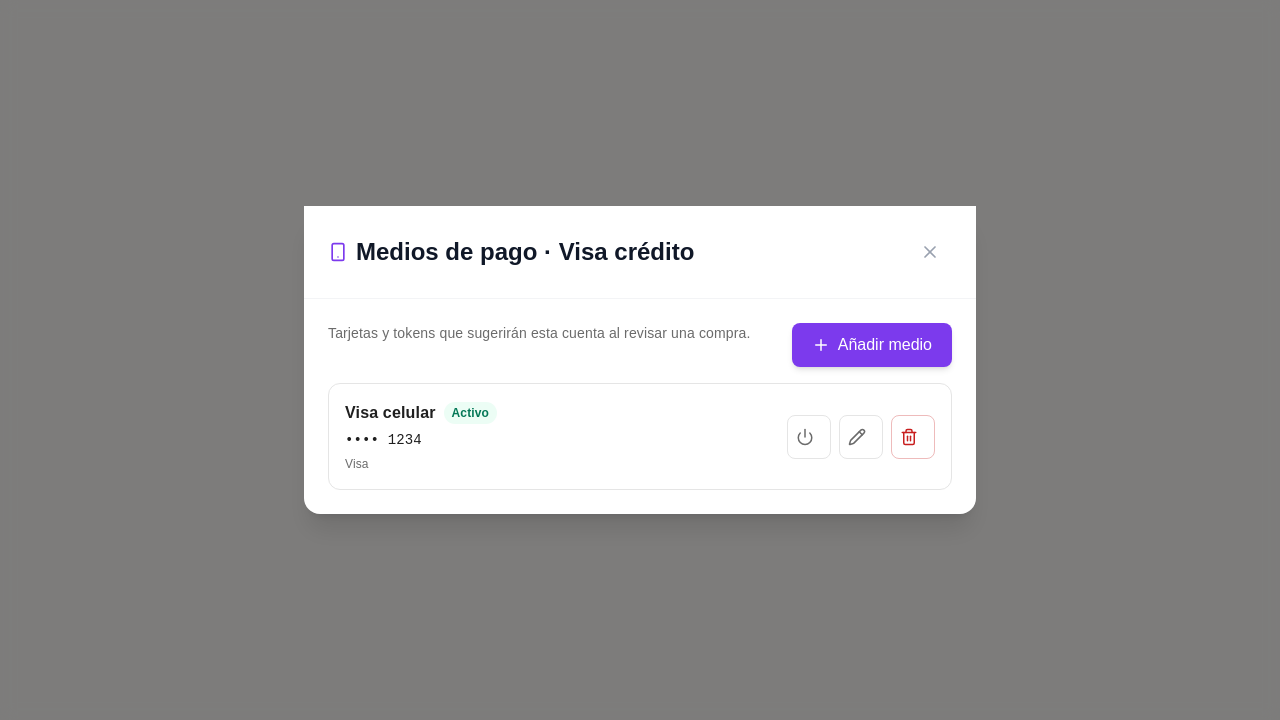
it: PaymentInstrumentsSection › uses one modal for the selected account and for its add form
Expected: the text "Visa celular" is shown, [345, 400, 436, 426]
Click the button "Añadir medio": (872, 345) [792, 323, 952, 367]
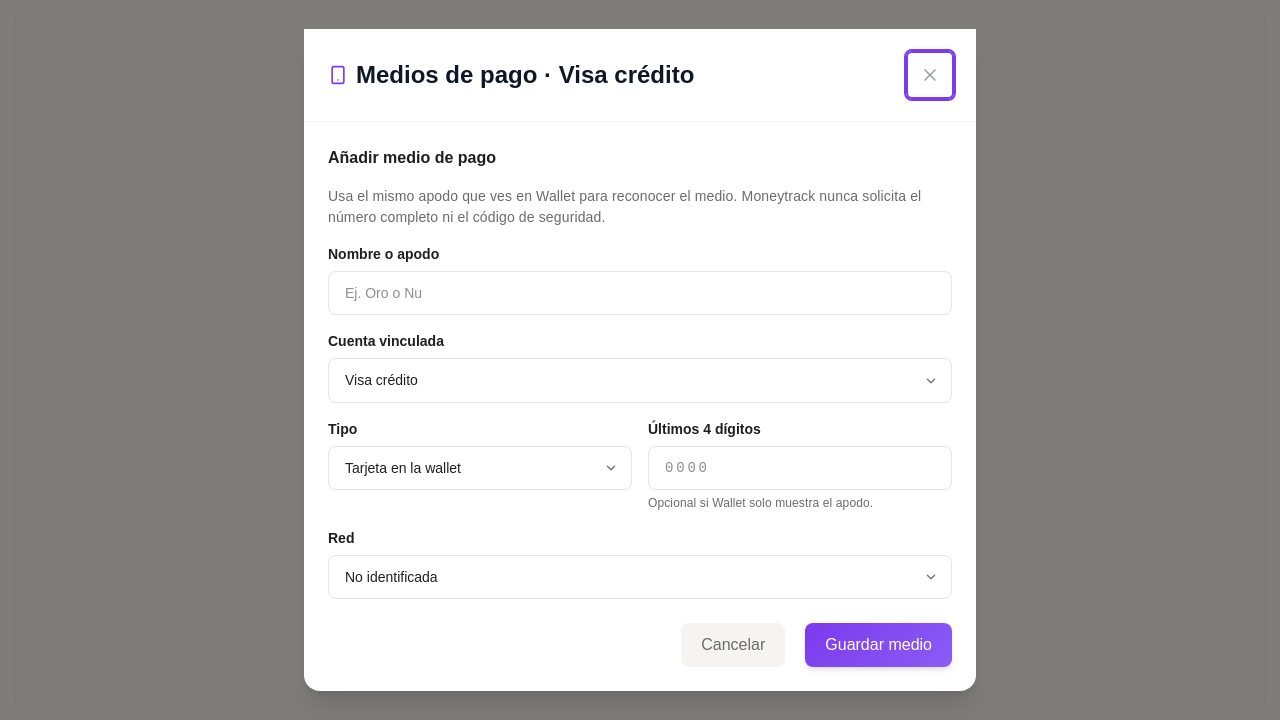
Now the dropdown labelled "Cuenta vinculada" shows "Visa crédito", box [328, 358, 952, 402]
